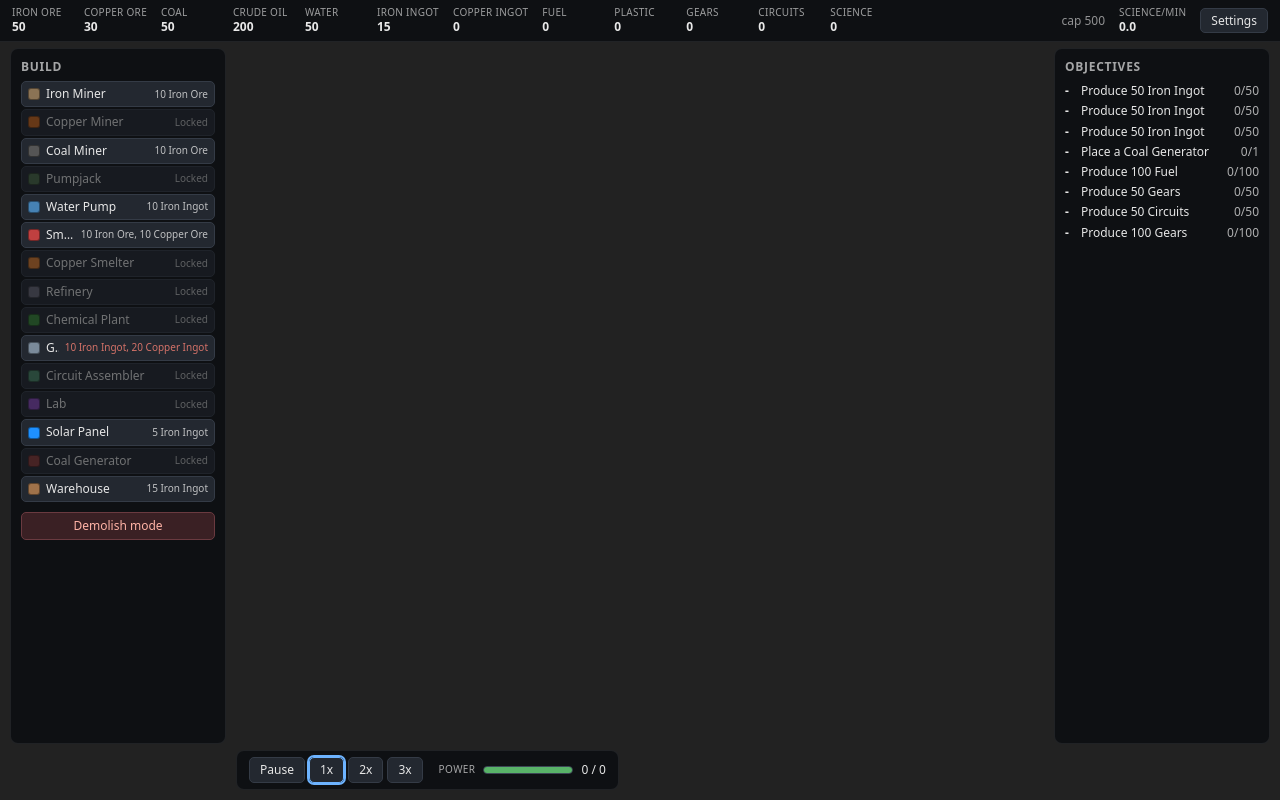
Scenario: UI › opens and closes the settings menu
Expected: the text "New game" is not shown
Click the button "Settings" at (1234, 20), box x1=1200 y1=8 x2=1268 y2=33
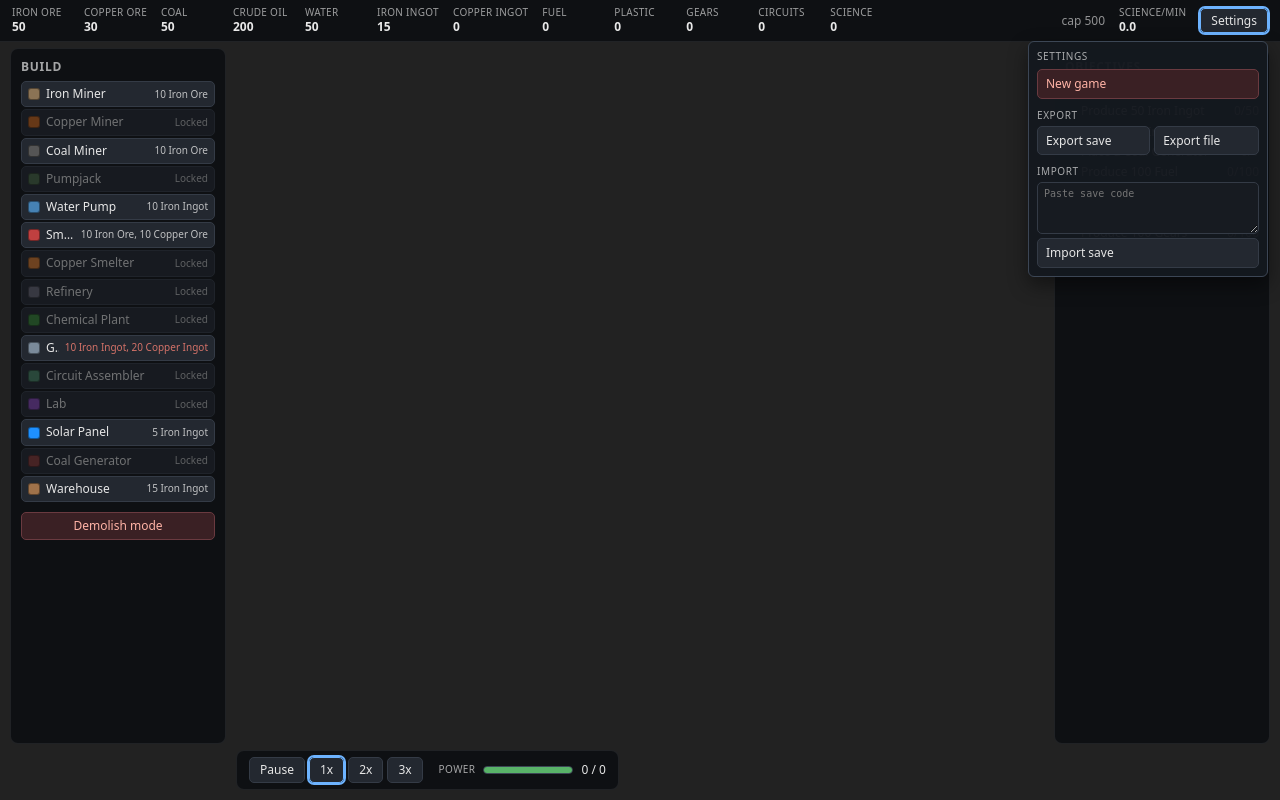
Result: the text "New game" is shown at x1=1037 y1=69 x2=1259 y2=99
Click the button "Settings" at (1234, 20), box x1=1200 y1=8 x2=1268 y2=33
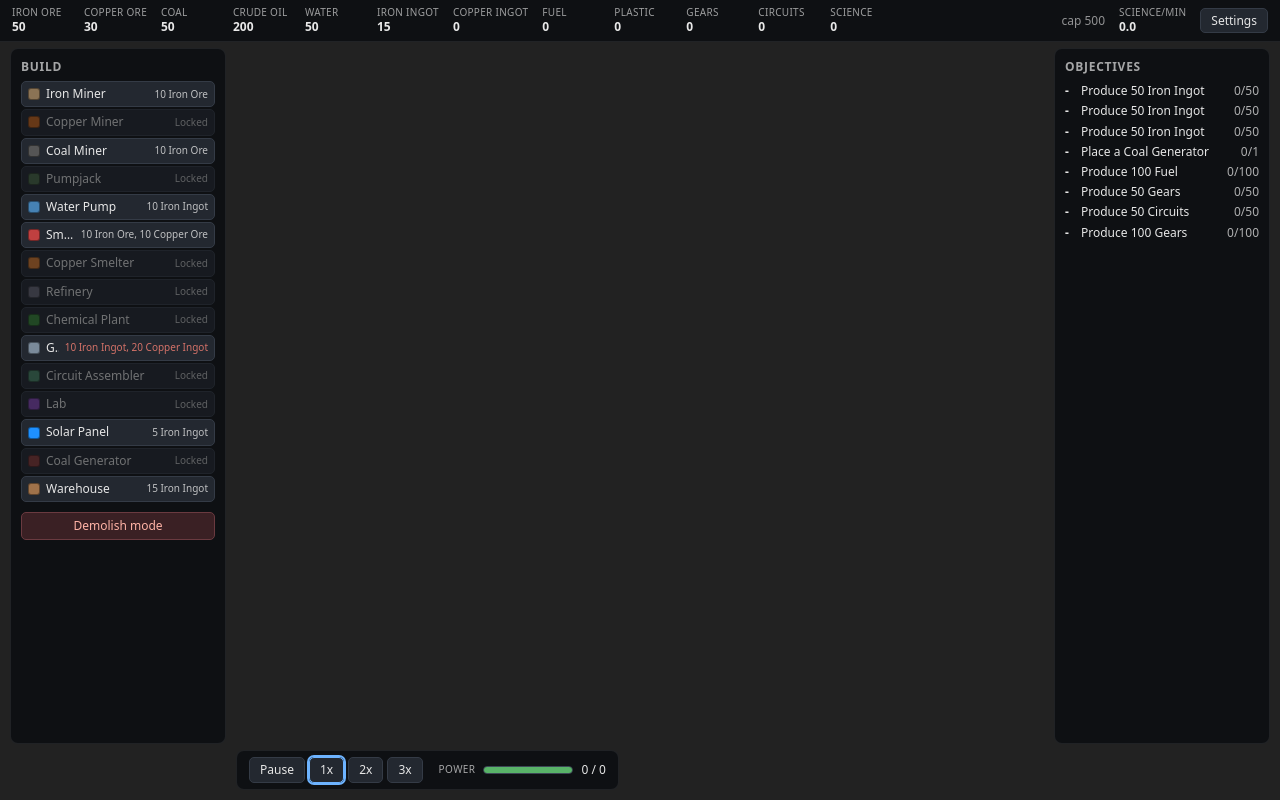
Result: the text "New game" is gone
